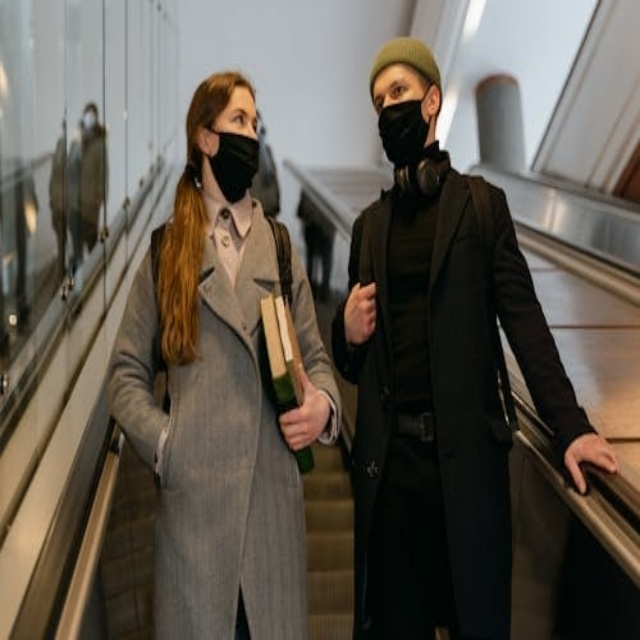Mascara: (378, 83, 444, 156), (196, 123, 259, 190)
Sin_gafas: (372, 71, 410, 104), (227, 102, 261, 127)
Sin_guantes: (278, 366, 330, 452), (564, 425, 621, 496), (343, 277, 370, 338)
